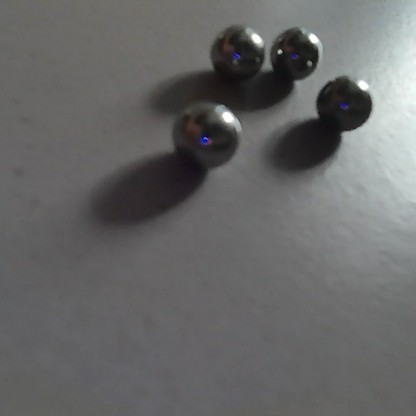ironball: (171, 99, 244, 170), (206, 20, 267, 84), (313, 73, 376, 134), (265, 26, 321, 81)
